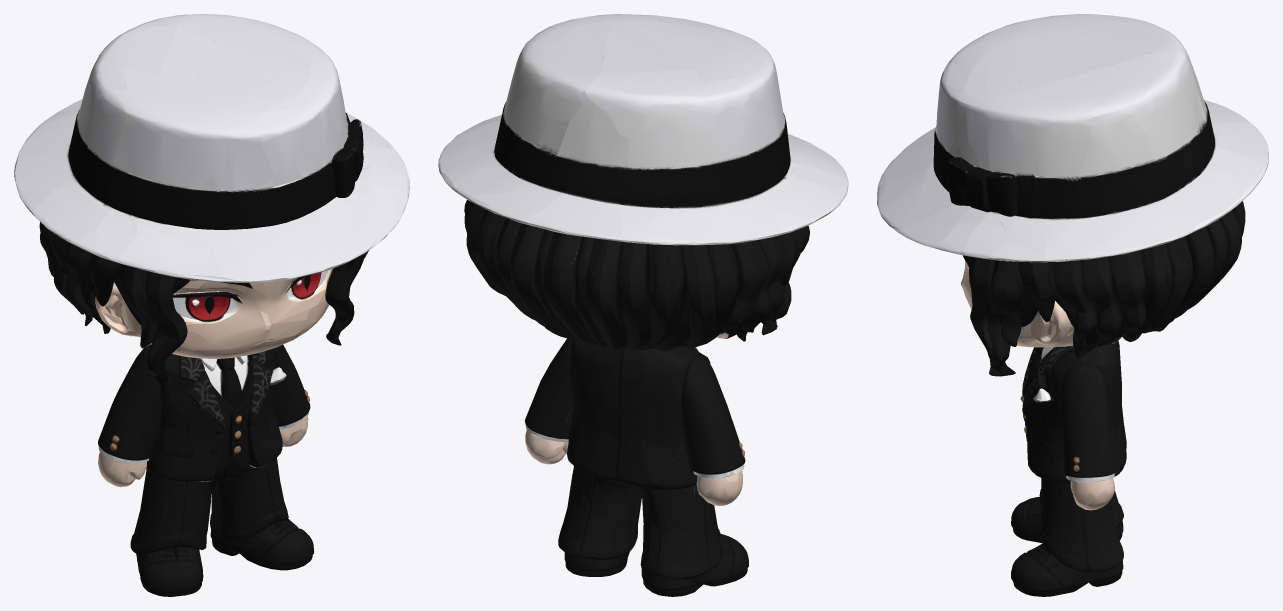
Rendered from Muzon.glb.
The picture shows the model from 3 angles, left to right: view 1: azimuth 30°, elevation 25°; view 2: azimuth 150°, elevation 25°; view 3: azimuth 270°, elevation 25°; orthographic projection. The views are drawn at different scales.
Parts seen in each view (by area): view 1: Mesh_0; view 2: Mesh_0; view 3: Mesh_0.
Part boxes in pixels (x1,y1,x2,y2): Mesh_0: (14,14,409,596); Mesh_0: (438,14,848,596); Mesh_0: (877,14,1268,596).
Bounding box in the file's own units: 1.35 × 1.9 × 1.33.
1 material, 1 textured.
